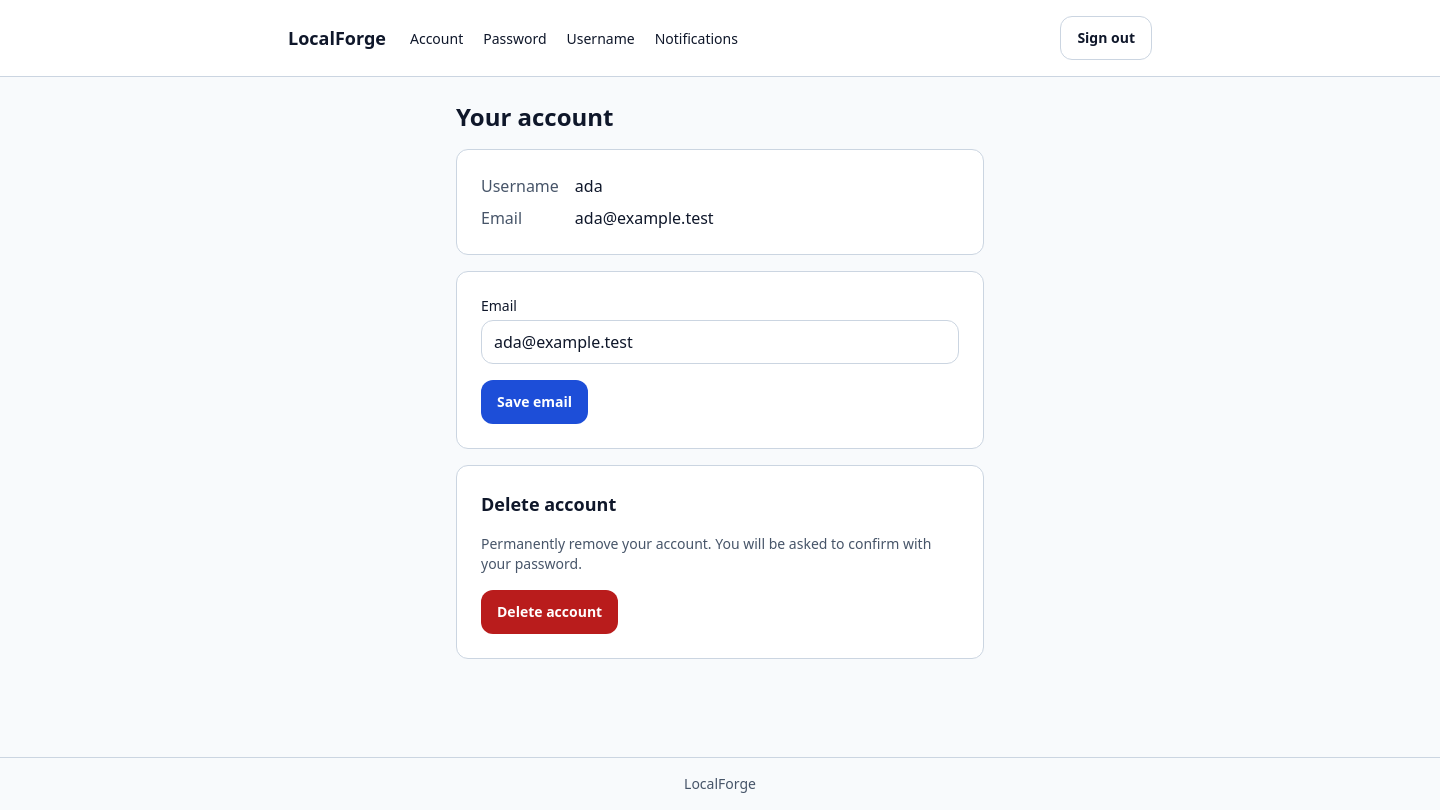
sign out › stays signed in and explains when sign-out cannot reach the server
This screenshot has width=1440, height=810.
Click the button "Sign out" at (1106, 38), box [1060,16,1152,60]
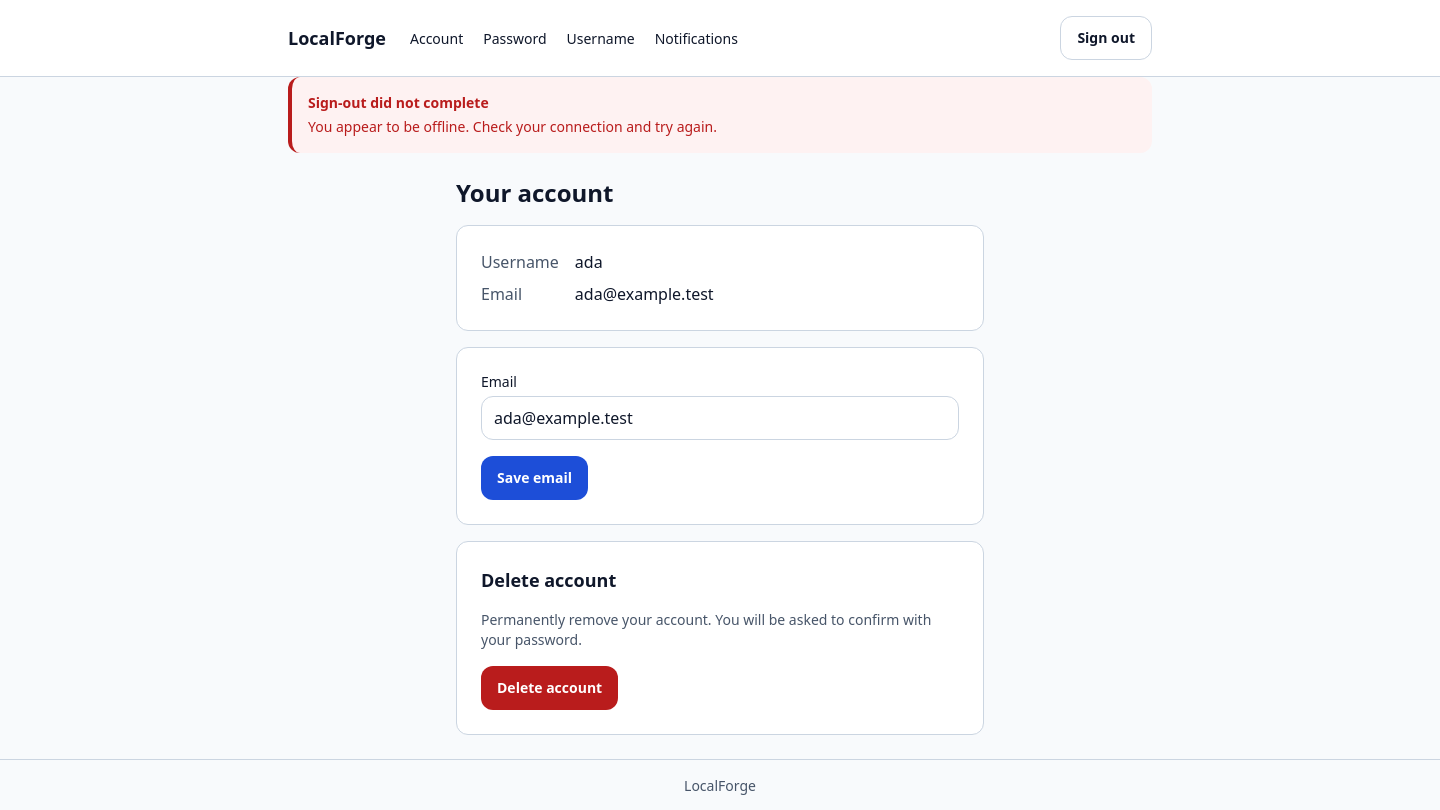
Expected: the heading "Your account" is shown, [456,176,614,209]
Expected: the text "Sign-out did not complete" is shown, [308,93,489,112]
